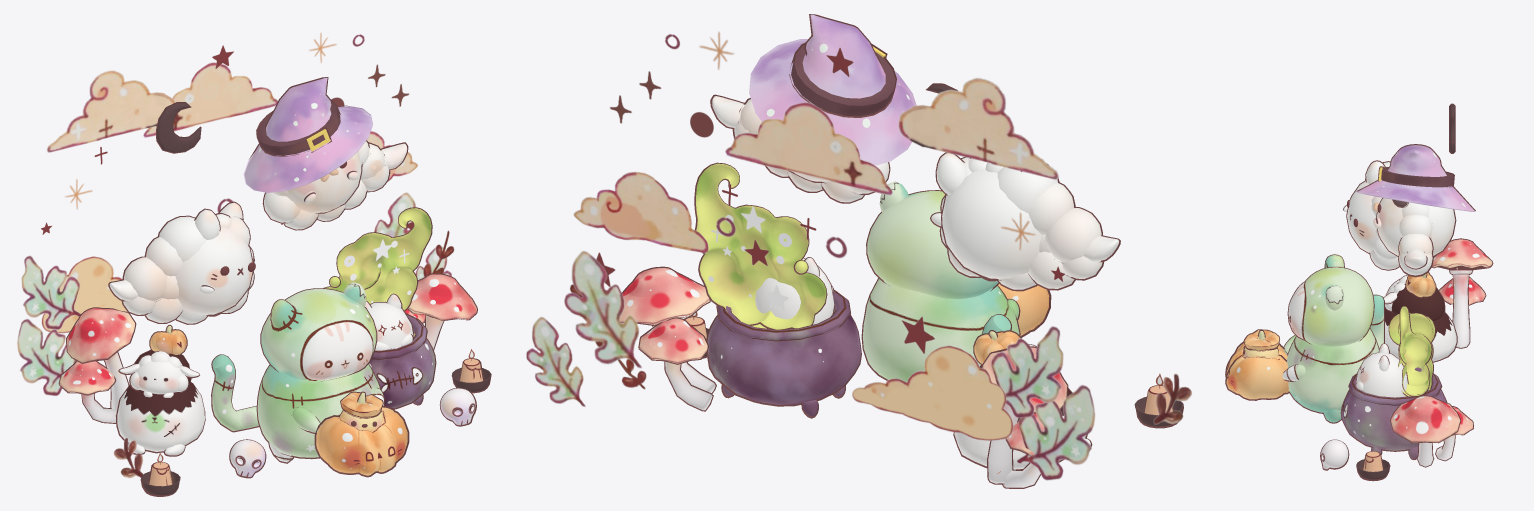
File: halloween.glb
3 renders of one model, left to right at view 1: azimuth 30°, elevation 25°; view 2: azimuth 150°, elevation 25°; view 3: azimuth 270°, elevation 25°, orthographic. The views are drawn at different scales.
Visible parts, largest first — view 1: polySurface51_aiStandardSurface1_0, polySurface119_aiStandardSurface2_0, polySurface151_aiStandardSurface6_0, pPlane22_aiStandardSurface4_0, polySurface135_aiStandardSurface2_0, polySurface138_aiStandardSurface2_0, polySurface187_aiStandardSurface9_0, pPlane23_aiStandardSurface4_0, polySurface127_aiStandardSurface2_0, polySurface120_aiStandardSurface2_0, pPlane7_aiStandardSurface4_0, polySurface183_aiStandardSurface9_0 (+17 smaller); view 2: polySurface51_aiStandardSurface1_0, polySurface127_aiStandardSurface2_0, polySurface151_aiStandardSurface6_0, polySurface119_aiStandardSurface2_0, pPlane21_aiStandardSurface4_0, pPlane22_aiStandardSurface4_0, pPlane23_aiStandardSurface4_0, polySurface135_aiStandardSurface2_0, pPlane24_aiStandardSurface4_0, pPlane4_aiStandardSurface4_0, pPlane6_aiStandardSurface4_0, pPlane7_aiStandardSurface4_0 (+13 smaller); view 3: polySurface51_aiStandardSurface1_0, polySurface135_aiStandardSurface2_0, polySurface119_aiStandardSurface2_0, polySurface127_aiStandardSurface2_0, polySurface151_aiStandardSurface6_0, polySurface187_aiStandardSurface9_0, polySurface176_aiStandardSurface9_0, polySurface125_aiStandardSurface2_0, polySurface138_aiStandardSurface2_0, polySurface183_aiStandardSurface9_0, polySurface182_aiStandardSurface9_0, polySurface134_aiStandardSurface2_0 (+11 smaller).
Part boxes in pixels (bbox=[...]): polySurface51_aiStandardSurface1_0: bbox=[109, 77, 407, 323]; polySurface119_aiStandardSurface2_0: bbox=[257, 364, 379, 457]; polySurface151_aiStandardSurface6_0: bbox=[325, 208, 431, 310]; pPlane22_aiStandardSurface4_0: bbox=[46, 70, 175, 152]; polySurface135_aiStandardSurface2_0: bbox=[261, 289, 376, 379]; polySurface138_aiStandardSurface2_0: bbox=[117, 382, 204, 451]; polySurface187_aiStandardSurface9_0: bbox=[316, 407, 407, 475]; pPlane23_aiStandardSurface4_0: bbox=[143, 62, 277, 137]; polySurface127_aiStandardSurface2_0: bbox=[369, 314, 435, 408]; polySurface120_aiStandardSurface2_0: bbox=[301, 321, 372, 380]; pPlane7_aiStandardSurface4_0: bbox=[21, 255, 80, 329]; polySurface183_aiStandardSurface9_0: bbox=[67, 308, 135, 362]; polySurface51_aiStandardSurface1_0: bbox=[712, 14, 1119, 289]; polySurface127_aiStandardSurface2_0: bbox=[707, 290, 860, 404]; polySurface151_aiStandardSurface6_0: bbox=[696, 163, 826, 329]; polySurface119_aiStandardSurface2_0: bbox=[862, 279, 1019, 382]; pPlane21_aiStandardSurface4_0: bbox=[852, 345, 1013, 440]; pPlane22_aiStandardSurface4_0: bbox=[898, 77, 1058, 179]; pPlane23_aiStandardSurface4_0: bbox=[725, 102, 892, 195]; polySurface135_aiStandardSurface2_0: bbox=[867, 191, 998, 299]; pPlane24_aiStandardSurface4_0: bbox=[573, 171, 708, 253]; pPlane4_aiStandardSurface4_0: bbox=[564, 250, 641, 368]; pPlane6_aiStandardSurface4_0: bbox=[1016, 384, 1095, 480]; pPlane7_aiStandardSurface4_0: bbox=[991, 326, 1063, 418]; polySurface51_aiStandardSurface1_0: bbox=[1342, 145, 1475, 275]; polySurface135_aiStandardSurface2_0: bbox=[1302, 267, 1373, 346]; polySurface119_aiStandardSurface2_0: bbox=[1287, 329, 1378, 412]; polySurface127_aiStandardSurface2_0: bbox=[1341, 367, 1446, 450]; polySurface151_aiStandardSurface6_0: bbox=[1389, 306, 1434, 396]; polySurface187_aiStandardSurface9_0: bbox=[1226, 343, 1289, 399]; polySurface176_aiStandardSurface9_0: bbox=[1391, 396, 1460, 442]; polySurface125_aiStandardSurface2_0: bbox=[1356, 352, 1407, 397]; polySurface138_aiStandardSurface2_0: bbox=[1385, 308, 1456, 361]; polySurface183_aiStandardSurface9_0: bbox=[1432, 239, 1492, 269]; polySurface182_aiStandardSurface9_0: bbox=[1449, 270, 1472, 347]; polySurface134_aiStandardSurface2_0: bbox=[1386, 280, 1444, 321].
Size of the model in its own units: 2.5 by 1.95 by 1.64.
Materials: 7 (6 with a texture image).
